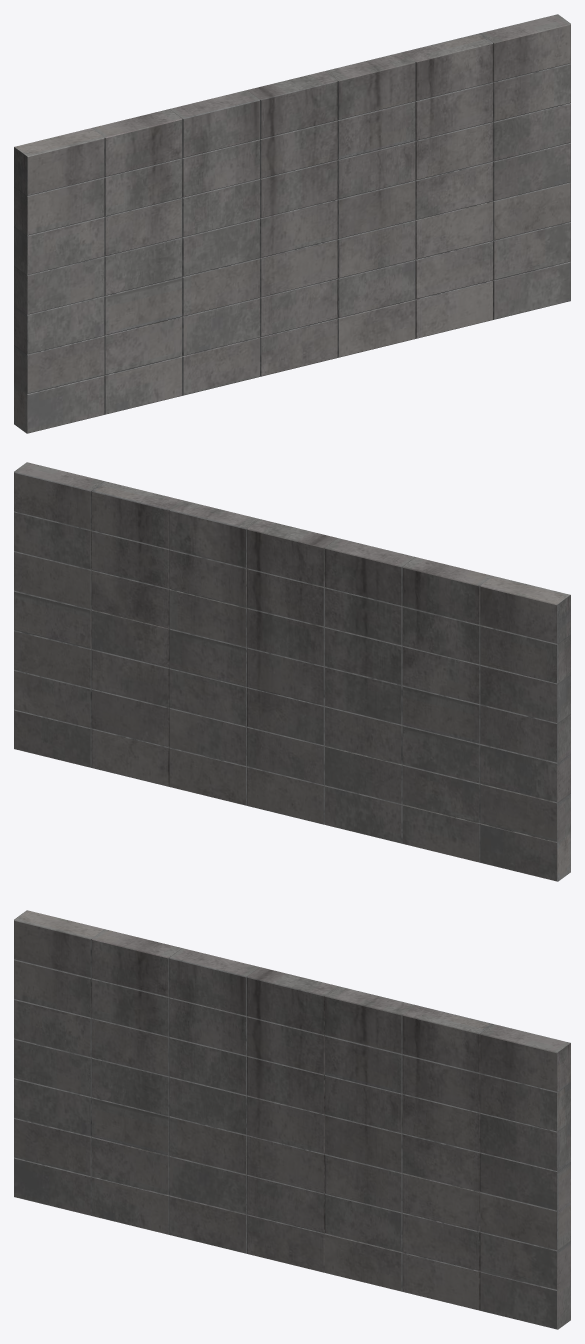
File: block_wall.glb
3 renders of one model, top to bottom at view 1: azimuth 30°, elevation 25°; view 2: azimuth 150°, elevation 25°; view 3: azimuth 330°, elevation 25°, orthographic.
Parts seen in each view (by area): view 1: block_42, block_43, block_47, block_46, block_44, block_45, block_48, block_27, block_41, block_13, block_00, block_14 (+37 smaller); view 2: block_42, block_43, block_47, block_46, block_44, block_45, block_48, block_27, block_41, block_13, block_00, block_14 (+37 smaller); view 3: block_48, block_47, block_43, block_44, block_45, block_46, block_42, block_21, block_35, block_07, block_06, block_20 (+37 smaller).
Part boxes in pixels (box(x1,y1,x2,y2)): block_42: box(14, 128, 104, 195); block_43: box(92, 109, 182, 176); block_47: box(403, 33, 493, 100); block_46: box(325, 52, 415, 119); block_44: box(170, 90, 259, 157); block_45: box(247, 71, 337, 138); block_48: box(480, 14, 570, 81); block_27: box(14, 256, 104, 314); block_41: box(14, 177, 104, 235); block_13: box(14, 335, 104, 393); block_00: box(14, 375, 104, 433); block_14: box(14, 296, 104, 354); block_42: box(480, 576, 570, 643); block_43: box(402, 557, 492, 624); block_47: box(91, 481, 181, 548); block_46: box(169, 500, 259, 567); block_44: box(325, 538, 414, 605); block_45: box(247, 519, 337, 586); block_48: box(14, 462, 104, 529); block_27: box(480, 704, 570, 762); block_41: box(480, 625, 570, 683); block_13: box(480, 783, 570, 841); block_00: box(480, 823, 570, 881); block_14: box(480, 744, 570, 802); block_48: box(480, 1024, 570, 1091); block_47: box(402, 1005, 492, 1072); block_43: box(91, 929, 181, 996); block_44: box(169, 948, 259, 1015); block_45: box(247, 967, 337, 1034); block_46: box(325, 986, 414, 1053); block_42: box(14, 910, 104, 977); block_21: box(480, 1152, 570, 1210); block_35: box(480, 1073, 570, 1131); block_07: box(480, 1231, 570, 1289); block_06: box(480, 1271, 570, 1329); block_20: box(480, 1192, 570, 1250).
Size of the model in its own units: 2.73 by 1.33 by 0.12.
1 material, 1 textured.
